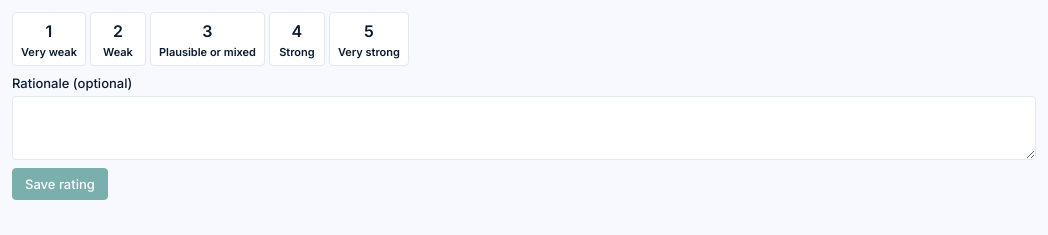
Test: AssertionRatingWidget › shows success feedback after a save resolves
Click the radio button labelled "5 Very strong" at (369, 39), box [329, 12, 409, 66]
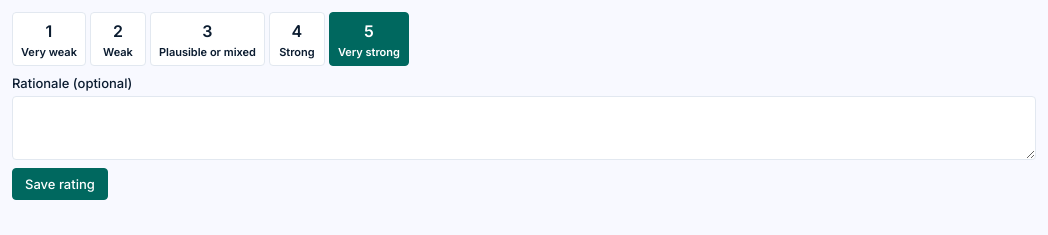
Click the button "Save rating" at (60, 184), box [12, 168, 108, 200]
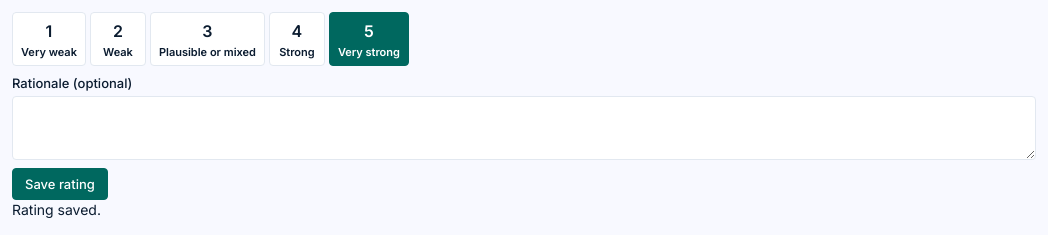
Expected: the text "Rating saved." is shown, [12, 201, 101, 218]
